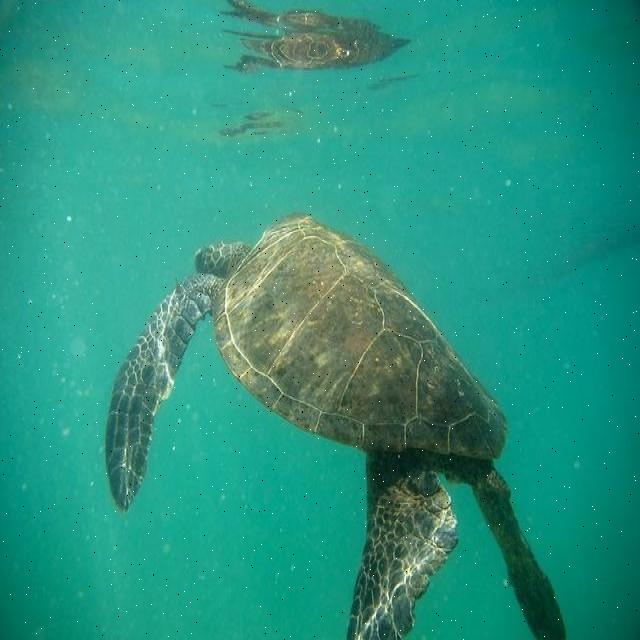fish: (106, 211, 567, 639)
